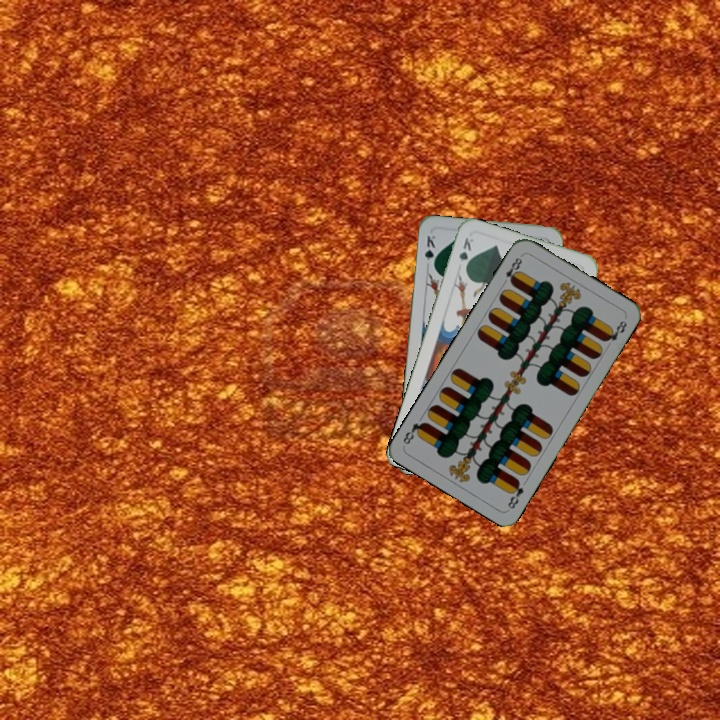E8: (498, 251, 525, 288), (503, 476, 526, 512)
GK: (455, 233, 476, 273), (421, 231, 438, 271)
